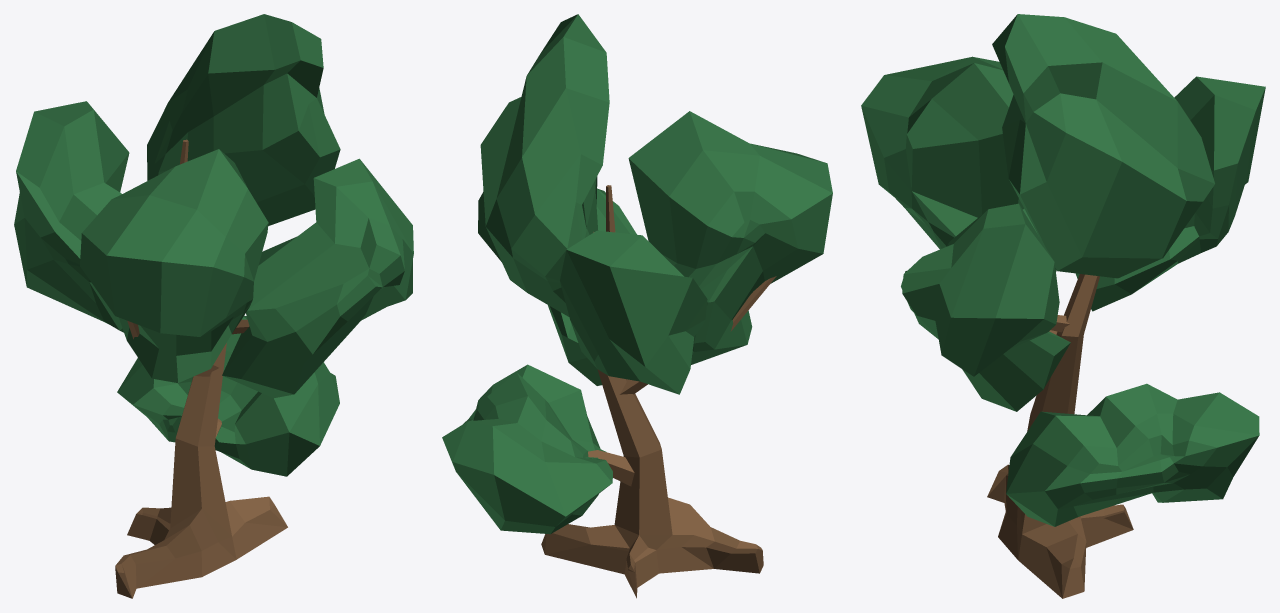
Rendered from Tree_Basic3.fbx.
The picture shows the model from 3 angles, left to right: view 1: azimuth 30°, elevation 25°; view 2: azimuth 150°, elevation 25°; view 3: azimuth 270°, elevation 25°; orthographic projection. The views are drawn at different scales.
Parts seen in each view (by area): view 1: Tree.Basic.3; view 2: Tree.Basic.3; view 3: Tree.Basic.3.
Part boxes in pixels (x1,y1,x2,y2): Tree.Basic.3: (14,14,413,598); Tree.Basic.3: (442,14,832,598); Tree.Basic.3: (861,14,1265,598).
Size of the model in its own units: 2863 by 4319 by 2751.
